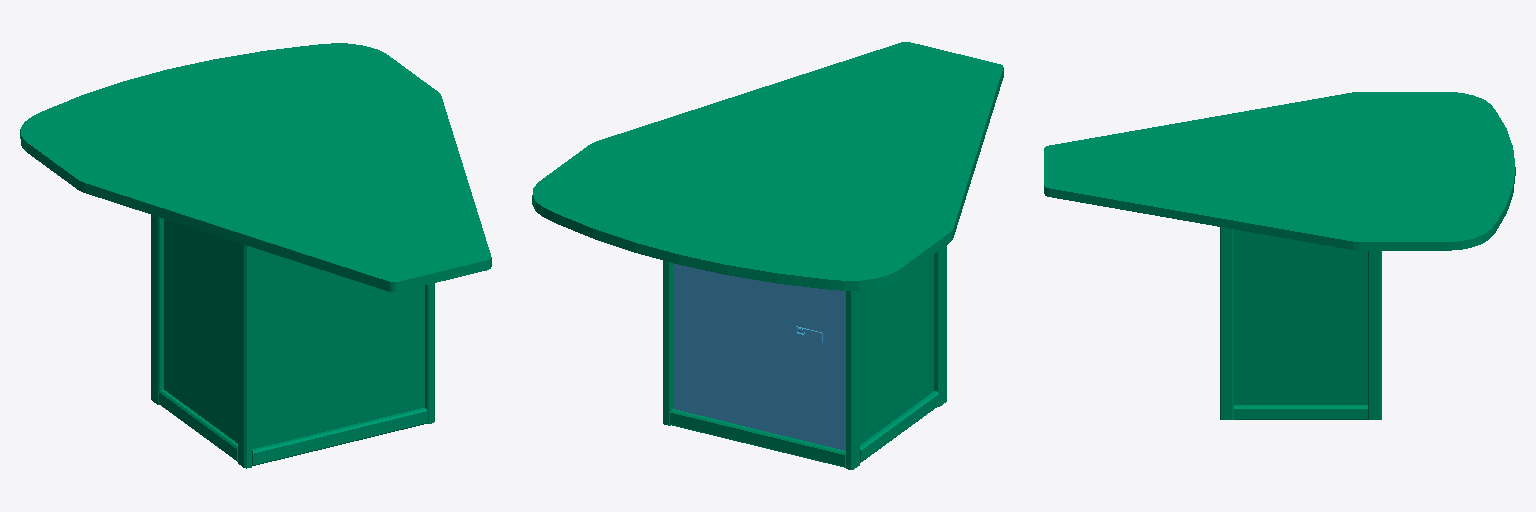
URDF robot description (partnet_9f4eb0d734a2b7a4ab610b0c94236463):
<?xml version='1.0' encoding='utf-8'?>
<robot name="partnet_9f4eb0d734a2b7a4ab610b0c94236463">
	<link name="base" />
	<link name="link_0">
		<visual name="cabinet_door_surface-24">
			<origin xyz="0.261252100892782 0 0.2826091865222448" />
			<geometry>
				<mesh filename="textured_objs/original-15.obj" />
			</geometry>
		</visual>
		<visual name="handle-25">
			<origin xyz="0.261252100892782 0 0.2826091865222448" />
			<geometry>
				<mesh filename="textured_objs/original-16.obj" />
			</geometry>
		</visual>
		<collision>
			<origin xyz="0.261252100892782 0 0.2826091865222448" />
			<geometry>
				<mesh filename="textured_objs/original-15.obj" />
			</geometry>
		</collision>
		<collision>
			<origin xyz="0.261252100892782 0 0.2826091865222448" />
			<geometry>
				<mesh filename="textured_objs/original-16.obj" />
			</geometry>
		</collision>
	</link>
	<joint name="joint_0" type="revolute">
		<origin xyz="-0.261252100892782 0 -0.2826091865222448" />
		<axis xyz="0 -1 0" />
		<child link="link_0" />
		<parent link="link_1" />
		<limit lower="-0.0" upper="1.5707963267948966" />
	</joint>
	<link name="link_1">
		<visual name="board-27">
			<origin xyz="0 0 0" />
			<geometry>
				<mesh filename="textured_objs/original-1.obj" />
			</geometry>
		</visual>
		<visual name="back_panel-6">
			<origin xyz="0 0 0" />
			<geometry>
				<mesh filename="textured_objs/original-17.obj" />
			</geometry>
		</visual>
		<visual name="vertical_side_panel-7">
			<origin xyz="0 0 0" />
			<geometry>
				<mesh filename="textured_objs/original-7.obj" />
			</geometry>
		</visual>
		<visual name="vertical_side_panel-8">
			<origin xyz="0 0 0" />
			<geometry>
				<mesh filename="textured_objs/original-6.obj" />
			</geometry>
		</visual>
		<visual name="bottom_panel-9">
			<origin xyz="0 0 0" />
			<geometry>
				<mesh filename="textured_objs/original-22.obj" />
			</geometry>
		</visual>
		<visual name="runner-10">
			<origin xyz="0 0 0" />
			<geometry>
				<mesh filename="textured_objs/original-4.obj" />
			</geometry>
		</visual>
		<visual name="runner-11">
			<origin xyz="0 0 0" />
			<geometry>
				<mesh filename="textured_objs/original-3.obj" />
			</geometry>
		</visual>
		<visual name="runner-12">
			<origin xyz="0 0 0" />
			<geometry>
				<mesh filename="textured_objs/original-19.obj" />
			</geometry>
		</visual>
		<visual name="runner-13">
			<origin xyz="0 0 0" />
			<geometry>
				<mesh filename="textured_objs/original-20.obj" />
			</geometry>
		</visual>
		<visual name="runner-14">
			<origin xyz="0 0 0" />
			<geometry>
				<mesh filename="textured_objs/original-18.obj" />
			</geometry>
		</visual>
		<visual name="runner-15">
			<origin xyz="0 0 0" />
			<geometry>
				<mesh filename="textured_objs/original-21.obj" />
			</geometry>
		</visual>
		<visual name="tabletop_connector-20">
			<origin xyz="0 0 0" />
			<geometry>
				<mesh filename="textured_objs/original-13.obj" />
			</geometry>
		</visual>
		<visual name="tabletop_connector-21">
			<origin xyz="0 0 0" />
			<geometry>
				<mesh filename="textured_objs/original-14.obj" />
			</geometry>
		</visual>
		<visual name="tabletop_connector-22">
			<origin xyz="0 0 0" />
			<geometry>
				<mesh filename="textured_objs/original-5.obj" />
			</geometry>
		</visual>
		<visual name="tabletop_connector-23">
			<origin xyz="0 0 0" />
			<geometry>
				<mesh filename="textured_objs/original-12.obj" />
			</geometry>
		</visual>
		<visual name="leg-28">
			<origin xyz="0 0 0" />
			<geometry>
				<mesh filename="textured_objs/original-8.obj" />
			</geometry>
		</visual>
		<visual name="leg-29">
			<origin xyz="0 0 0" />
			<geometry>
				<mesh filename="textured_objs/original-9.obj" />
			</geometry>
		</visual>
		<visual name="leg-30">
			<origin xyz="0 0 0" />
			<geometry>
				<mesh filename="textured_objs/original-11.obj" />
			</geometry>
		</visual>
		<visual name="leg-31">
			<origin xyz="0 0 0" />
			<geometry>
				<mesh filename="textured_objs/original-10.obj" />
			</geometry>
		</visual>
		<collision>
			<origin xyz="0 0 0" />
			<geometry>
				<mesh filename="textured_objs/original-1.obj" />
			</geometry>
		</collision>
		<collision>
			<origin xyz="0 0 0" />
			<geometry>
				<mesh filename="textured_objs/original-17.obj" />
			</geometry>
		</collision>
		<collision>
			<origin xyz="0 0 0" />
			<geometry>
				<mesh filename="textured_objs/original-7.obj" />
			</geometry>
		</collision>
		<collision>
			<origin xyz="0 0 0" />
			<geometry>
				<mesh filename="textured_objs/original-6.obj" />
			</geometry>
		</collision>
		<collision>
			<origin xyz="0 0 0" />
			<geometry>
				<mesh filename="textured_objs/original-22.obj" />
			</geometry>
		</collision>
		<collision>
			<origin xyz="0 0 0" />
			<geometry>
				<mesh filename="textured_objs/original-4.obj" />
			</geometry>
		</collision>
		<collision>
			<origin xyz="0 0 0" />
			<geometry>
				<mesh filename="textured_objs/original-3.obj" />
			</geometry>
		</collision>
		<collision>
			<origin xyz="0 0 0" />
			<geometry>
				<mesh filename="textured_objs/original-19.obj" />
			</geometry>
		</collision>
		<collision>
			<origin xyz="0 0 0" />
			<geometry>
				<mesh filename="textured_objs/original-20.obj" />
			</geometry>
		</collision>
		<collision>
			<origin xyz="0 0 0" />
			<geometry>
				<mesh filename="textured_objs/original-18.obj" />
			</geometry>
		</collision>
		<collision>
			<origin xyz="0 0 0" />
			<geometry>
				<mesh filename="textured_objs/original-21.obj" />
			</geometry>
		</collision>
		<collision>
			<origin xyz="0 0 0" />
			<geometry>
				<mesh filename="textured_objs/original-13.obj" />
			</geometry>
		</collision>
		<collision>
			<origin xyz="0 0 0" />
			<geometry>
				<mesh filename="textured_objs/original-14.obj" />
			</geometry>
		</collision>
		<collision>
			<origin xyz="0 0 0" />
			<geometry>
				<mesh filename="textured_objs/original-5.obj" />
			</geometry>
		</collision>
		<collision>
			<origin xyz="0 0 0" />
			<geometry>
				<mesh filename="textured_objs/original-12.obj" />
			</geometry>
		</collision>
		<collision>
			<origin xyz="0 0 0" />
			<geometry>
				<mesh filename="textured_objs/original-8.obj" />
			</geometry>
		</collision>
		<collision>
			<origin xyz="0 0 0" />
			<geometry>
				<mesh filename="textured_objs/original-9.obj" />
			</geometry>
		</collision>
		<collision>
			<origin xyz="0 0 0" />
			<geometry>
				<mesh filename="textured_objs/original-11.obj" />
			</geometry>
		</collision>
		<collision>
			<origin xyz="0 0 0" />
			<geometry>
				<mesh filename="textured_objs/original-10.obj" />
			</geometry>
		</collision>
	</link>
	<joint name="joint_1" type="fixed">
		<origin rpy="1.570796326794897 0 -1.570796326794897" xyz="0 0 0" />
		<child link="link_1" />
		<parent link="base" />
	</joint>
</robot>

--- Render facts (derived) ---
The picture shows the robot from 3 angles, left to right: view 1: azimuth 30°, elevation 25°; view 2: azimuth 150°, elevation 25°; view 3: azimuth 270°, elevation 25°; orthographic projection.
Model partnet_9f4eb0d734a2b7a4ab610b0c94236463 with 3 links and 2 joints (1 revolute, 1 fixed), rooted at base, posed all joints at 0.
Visible links, largest first — view 1: link_1; view 2: link_1, link_0; view 3: link_1.
Boxes of the visible links, bbox=[...] form: link_1: bbox=[20, 43, 491, 468]; link_1: bbox=[532, 42, 1003, 469]; link_0: bbox=[673, 263, 845, 450]; link_1: bbox=[1044, 92, 1515, 419].
Bounding box of the posed robot: 1.3 × 1.72 × 0.8612 m (x, y, z).
Meshes: 21 distinct files referenced, 21 mesh visuals loaded (21 OBJ).